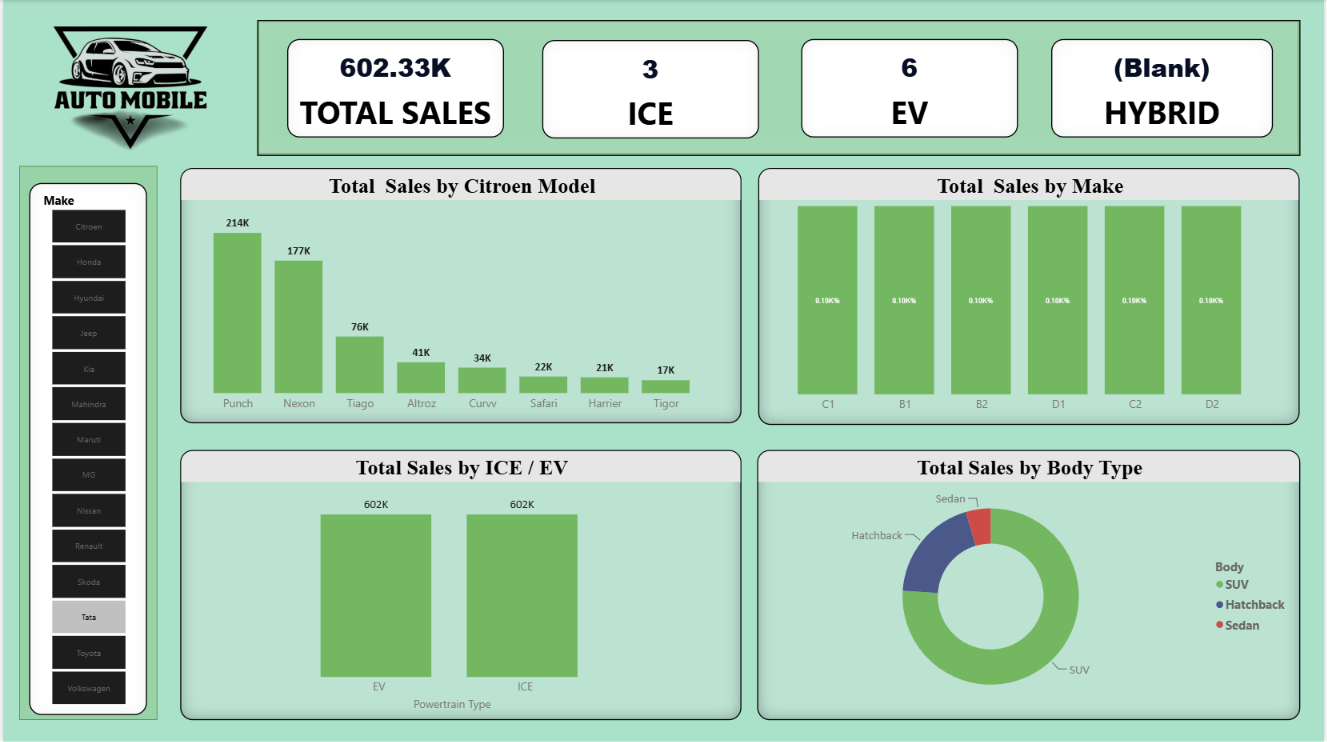

What the dashboard file says about the page in this screenshot:
{"tool":"powerbi","page":{"name":"Make wise sales(FY2024-2025)","canvas":[1920,1080],"ordinal":1},"visuals":[{"type":"clusteredColumnChart","title":"Total  Sales by Citroen Model","fields":{"Y":["Sum(FY 24 - 25 DATA.UNITS)"],"Category":["FY 24 - 25 DATA.Model"]},"box":[257.1,244.6,816.1,371.4],"z":0},{"type":"shape","box":[369.2,29,1516.5,197.3],"z":1000},{"type":"card","fields":{"Values":["MEASURE TABLE.EV"]},"box":[1160,56.1,314.9,143],"z":2000},{"type":"card","fields":{"Values":["MEASURE TABLE.HYBRID"]},"box":[1523.7,56.1,322.1,143],"z":3000},{"type":"card","fields":{"Values":["MEASURE TABLE.TOTAL SALES"]},"box":[412.6,56.1,314.9,143],"z":4000},{"type":"card","fields":{"Values":["MEASURE TABLE.ICE"]},"box":[783.6,57.9,314.9,143],"z":5000},{"type":"clusteredColumnChart","title":"Total Sales by ICE / EV","fields":{"Y":["MEASURE TABLE.TOTAL SALES"],"Category":["VISUALISATION.Powertrain Type"]},"box":[257.1,653.6,816.1,392.9],"z":6000},{"type":"donutChart","title":"Total Sales by Body Type","fields":{"Y":["Sum(VISUALISATION.UNITS)"],"Series":["VISUALISATION.Body"],"Category":["VISUALISATION.Body"]},"box":[1096.4,653.6,789.3,392.9],"z":7000},{"type":"shape","box":[23.5,240.7,200.9,805.3],"z":8000},{"type":"slicer","fields":{"Values":["FY 24 - 25 DATA.Make"]},"box":[37.5,266.1,171.4,773.2],"z":9000},{"type":"image","box":[0,28.6,369.6,196.4],"z":10000},{"type":"hundredPercentStackedColumnChart","title":"Total  Sales by Make","fields":{"Category":["VISUALISATION.Segment"],"Y":["Sum(VISUALISATION.UNITS)"]},"box":[1098.2,244.6,787.5,373.2],"z":11000}]}

Visuals, with their boxes in screenshot pixels (x1, y1, x2, y2), scaled from the page's 1920x1080 canvas onto the 1327x742 screenshot:
"Total  Sales by Citroen Model" clusteredColumnChart: 178, 168, 742, 423
shape: 255, 20, 1303, 155
card - MEASURE TABLE.EV: 802, 39, 1019, 137
card - MEASURE TABLE.HYBRID: 1053, 39, 1276, 137
card - MEASURE TABLE.TOTAL SALES: 285, 39, 503, 137
card - MEASURE TABLE.ICE: 542, 40, 759, 138
"Total Sales by ICE / EV" clusteredColumnChart: 178, 449, 742, 719
"Total Sales by Body Type" donutChart: 758, 449, 1303, 719
shape: 16, 165, 155, 719
slicer - FY 24 - 25 DATA.Make: 26, 183, 144, 714
image: 0, 20, 255, 155
"Total  Sales by Make" hundredPercentStackedColumnChart: 759, 168, 1303, 424
